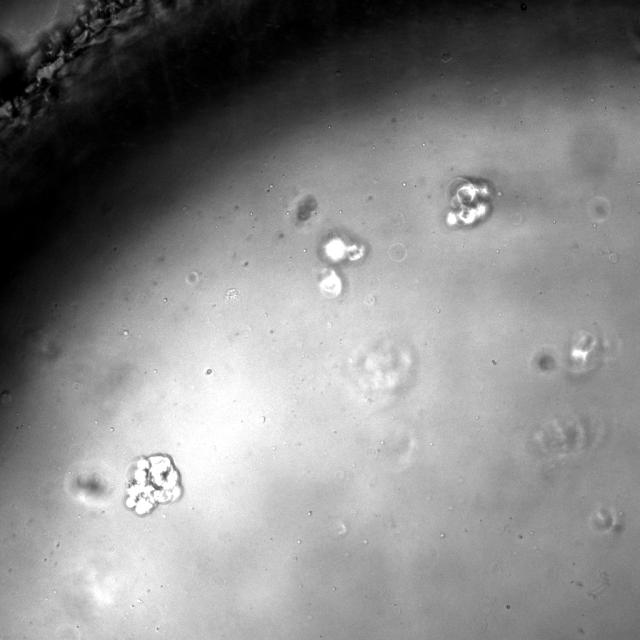organoid: (317, 228, 369, 297), (126, 453, 181, 515), (445, 177, 493, 227), (66, 470, 113, 500), (534, 350, 556, 371), (297, 196, 316, 220)
